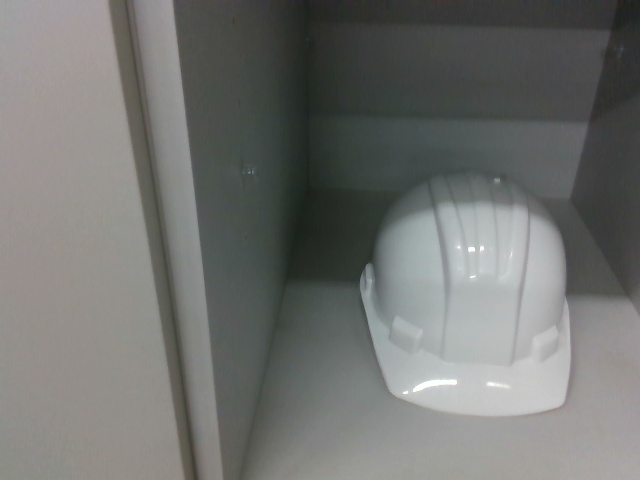helmet: (355, 166, 578, 422)
